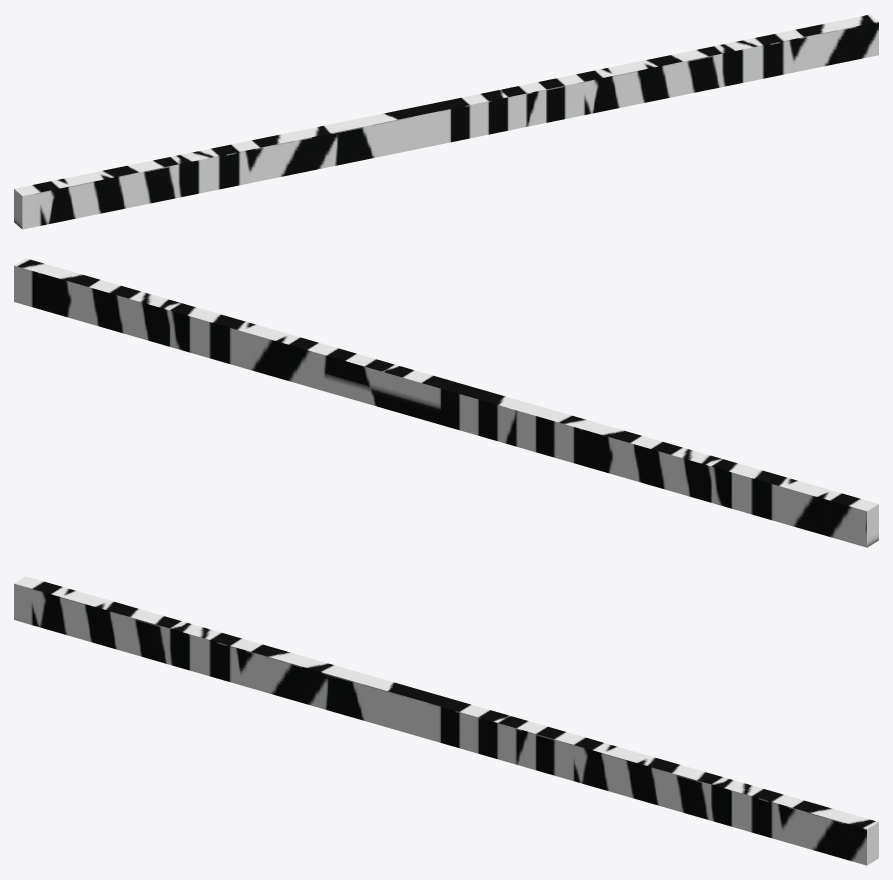
3 renders of one model, top to bottom at view 1: azimuth 30°, elevation 25°; view 2: azimuth 150°, elevation 25°; view 3: azimuth 330°, elevation 25°, orthographic. The views are drawn at different scales.
Visible parts, largest first — view 1: Cube.044; view 2: Cube.044; view 3: Cube.044.
Boxes of the visible parts, x1,y1,x2,y2 form: Cube.044: (14,14,878,229); Cube.044: (14,258,878,547); Cube.044: (14,576,878,865).
Size of the model in its own units: 14.52 by 0.5648 by 1.38.
Materials: 1 (1 with a texture image).
